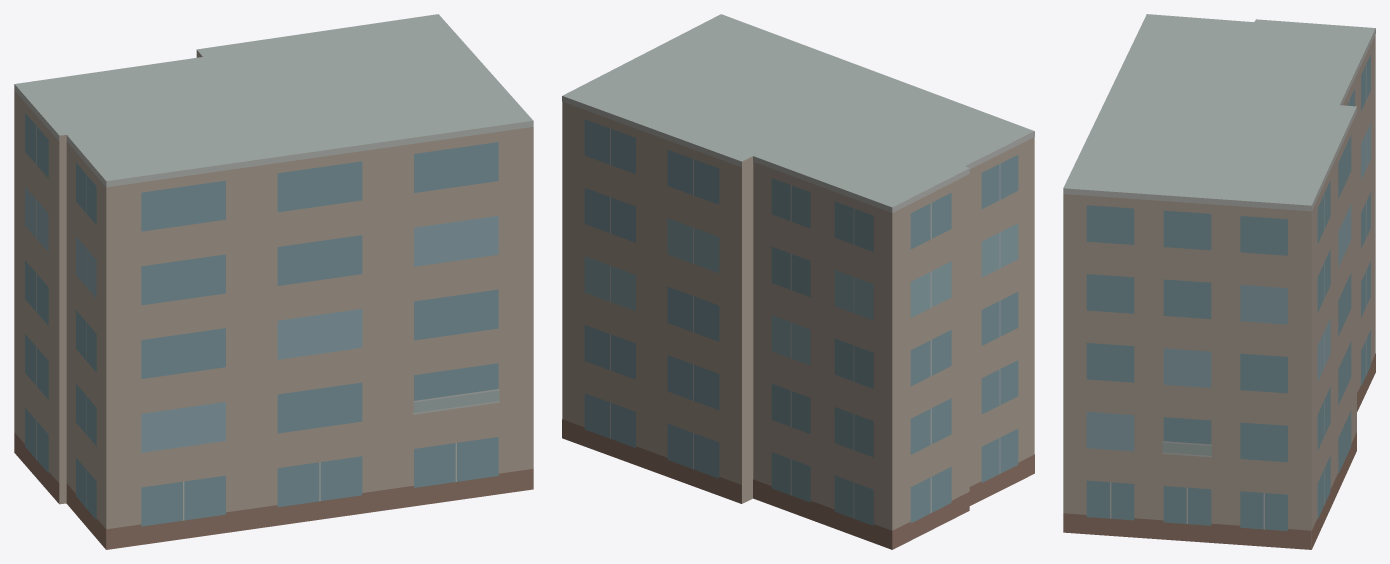
The model's file is survey-upis-32905065.glb.
3 views of the same model, side by side, from view 1: azimuth 30°, elevation 25°; view 2: azimuth 150°, elevation 25°; view 3: azimuth 270°, elevation 25° (orthographic). The views are drawn at different scales.
Parts seen in each view (by area): view 1: survey-upis-32905065.tmp; view 2: survey-upis-32905065.tmp; view 3: survey-upis-32905065.tmp.
Part boxes in pixels (x1,y1,x2,y2): survey-upis-32905065.tmp: (14,14,533,549); survey-upis-32905065.tmp: (562,14,1034,549); survey-upis-32905065.tmp: (1063,14,1375,549).
Size of the model in its own units: 17.56 by 14.7 by 12.11.
